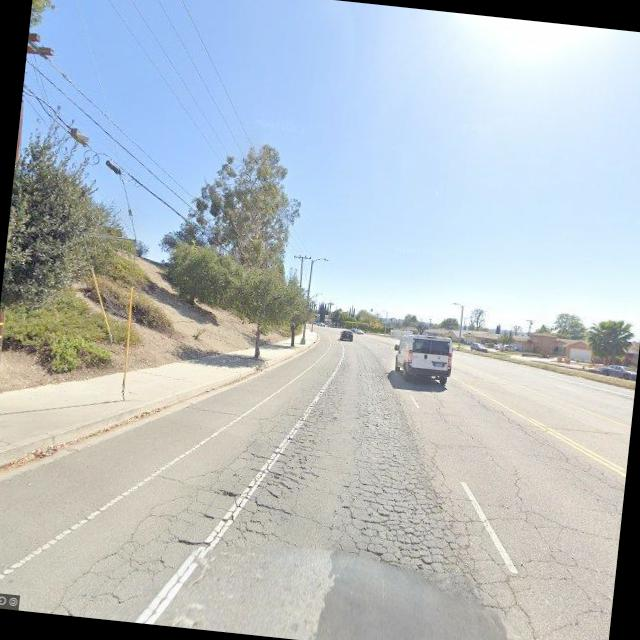crack: (72, 359, 632, 622)
